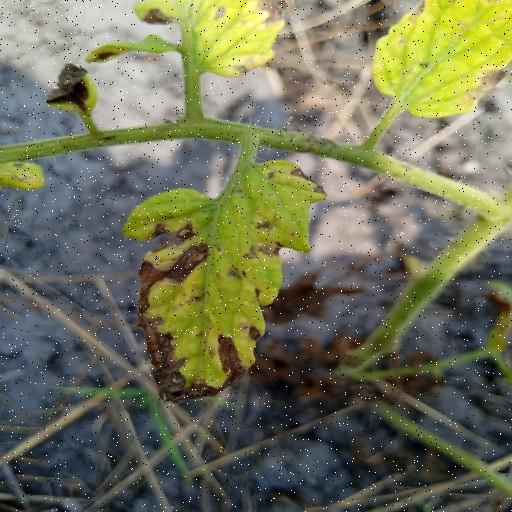Tomato_Brown_Spots: (122, 157, 333, 403), (365, 0, 512, 118)
